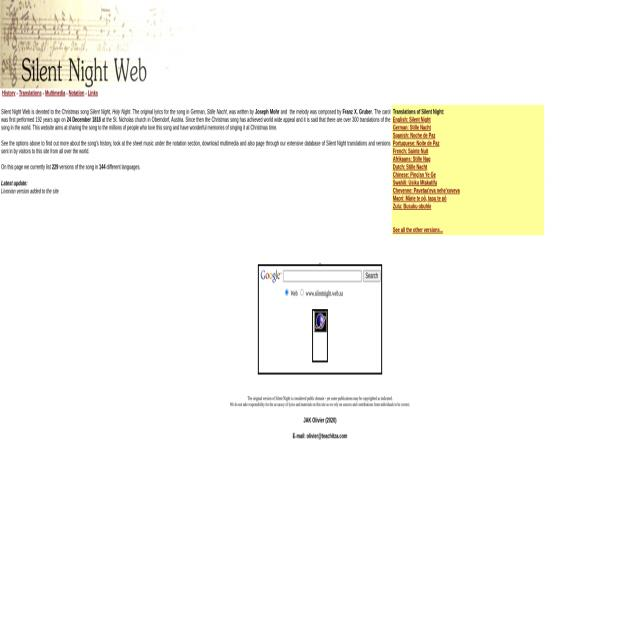button: (260, 267, 282, 285), (314, 311, 326, 332), (363, 270, 381, 282)
field: (283, 270, 362, 282)
